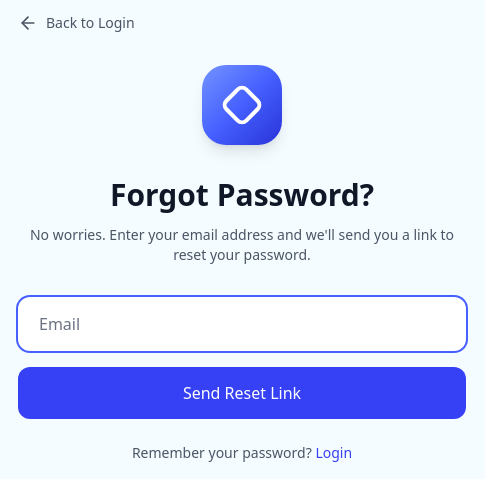
Test: Forgot password: the confirmation › does not claim an email was sent, because the backend answers the same for an unknown address
In the field named "Email address": (242, 324) x1=18 y1=297 x2=466 y2=351, type "coach@example.com"
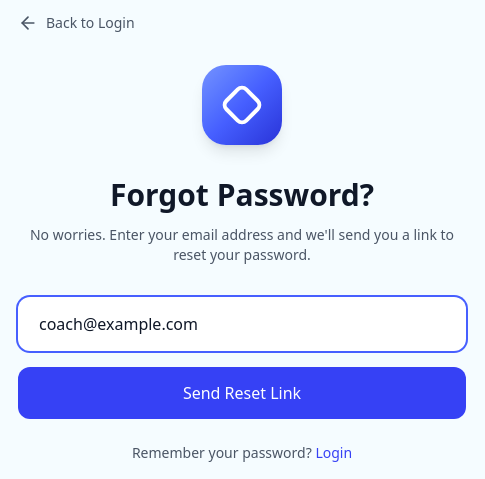
Click the button "Send Reset Link": (242, 393) x1=18 y1=367 x2=466 y2=419
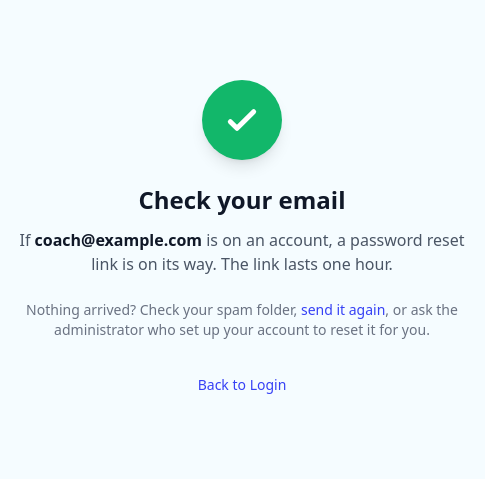
Expected: the heading "Check your email" is shown, x1=138 y1=183 x2=346 y2=216
Expected: the text "is on an account" is shown, x1=91 y1=229 x2=464 y2=275
Expected: the text "coach@example.com" is shown, x1=34 y1=229 x2=202 y2=251
